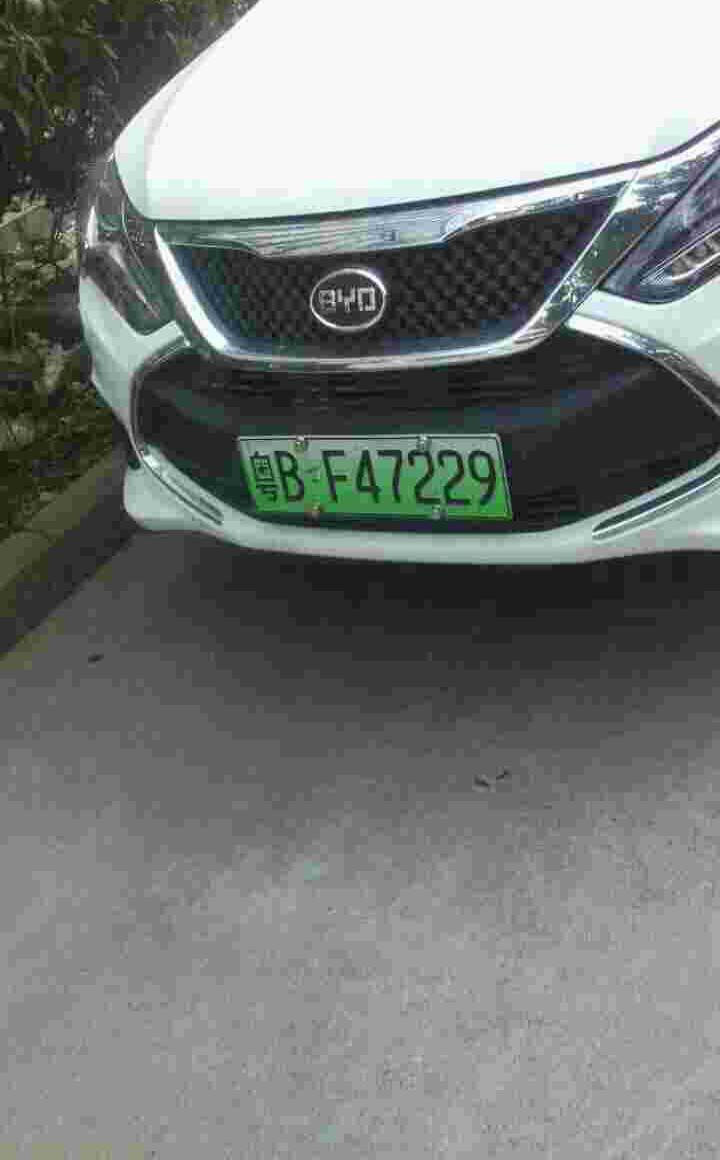car_id: (239, 434, 509, 515)
